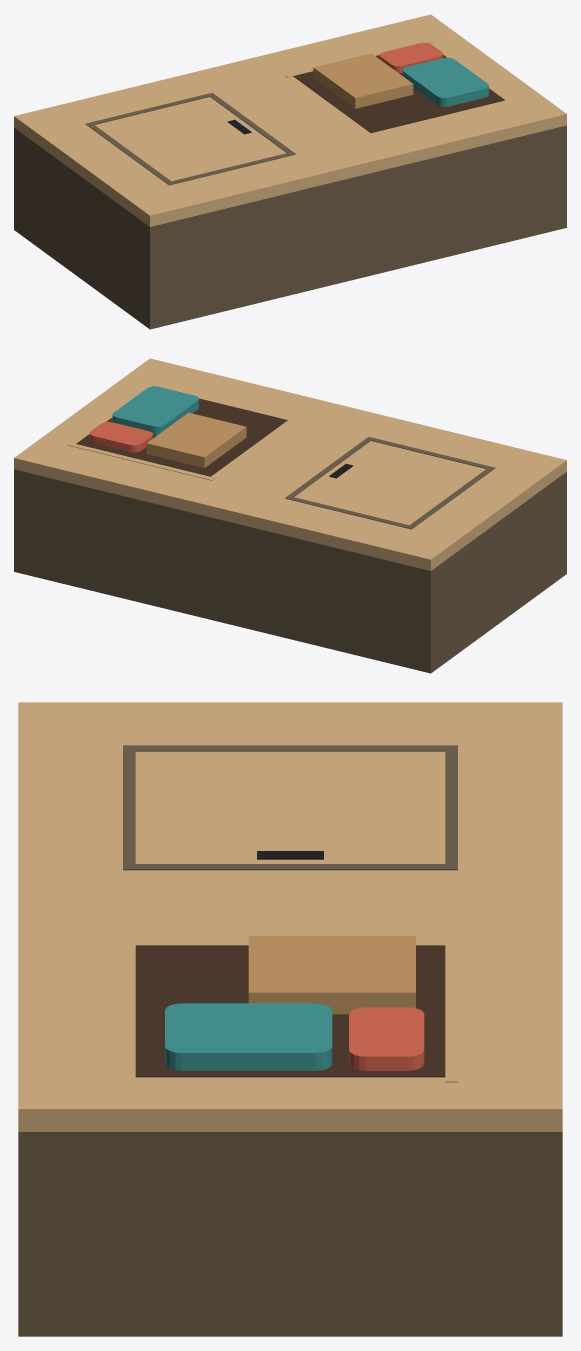
Rendered from floor_hatch_storage.glb.
3 views of the same model, one above another, from view 1: azimuth 30°, elevation 25°; view 2: azimuth 150°, elevation 25°; view 3: azimuth 270°, elevation 25° (orthographic). The views are drawn at different scales.
Parts seen in each view (by area): view 1: floor_hatch_storage_Body; view 2: floor_hatch_storage_Body; view 3: floor_hatch_storage_Body.
Boxes of the visible parts, <box> form: floor_hatch_storage_Body: <box>14,14,566,329</box>; floor_hatch_storage_Body: <box>14,358,566,673</box>; floor_hatch_storage_Body: <box>18,702,562,1336</box>.
Size of the model in its own units: 2.3 by 0.66 by 1.3.
